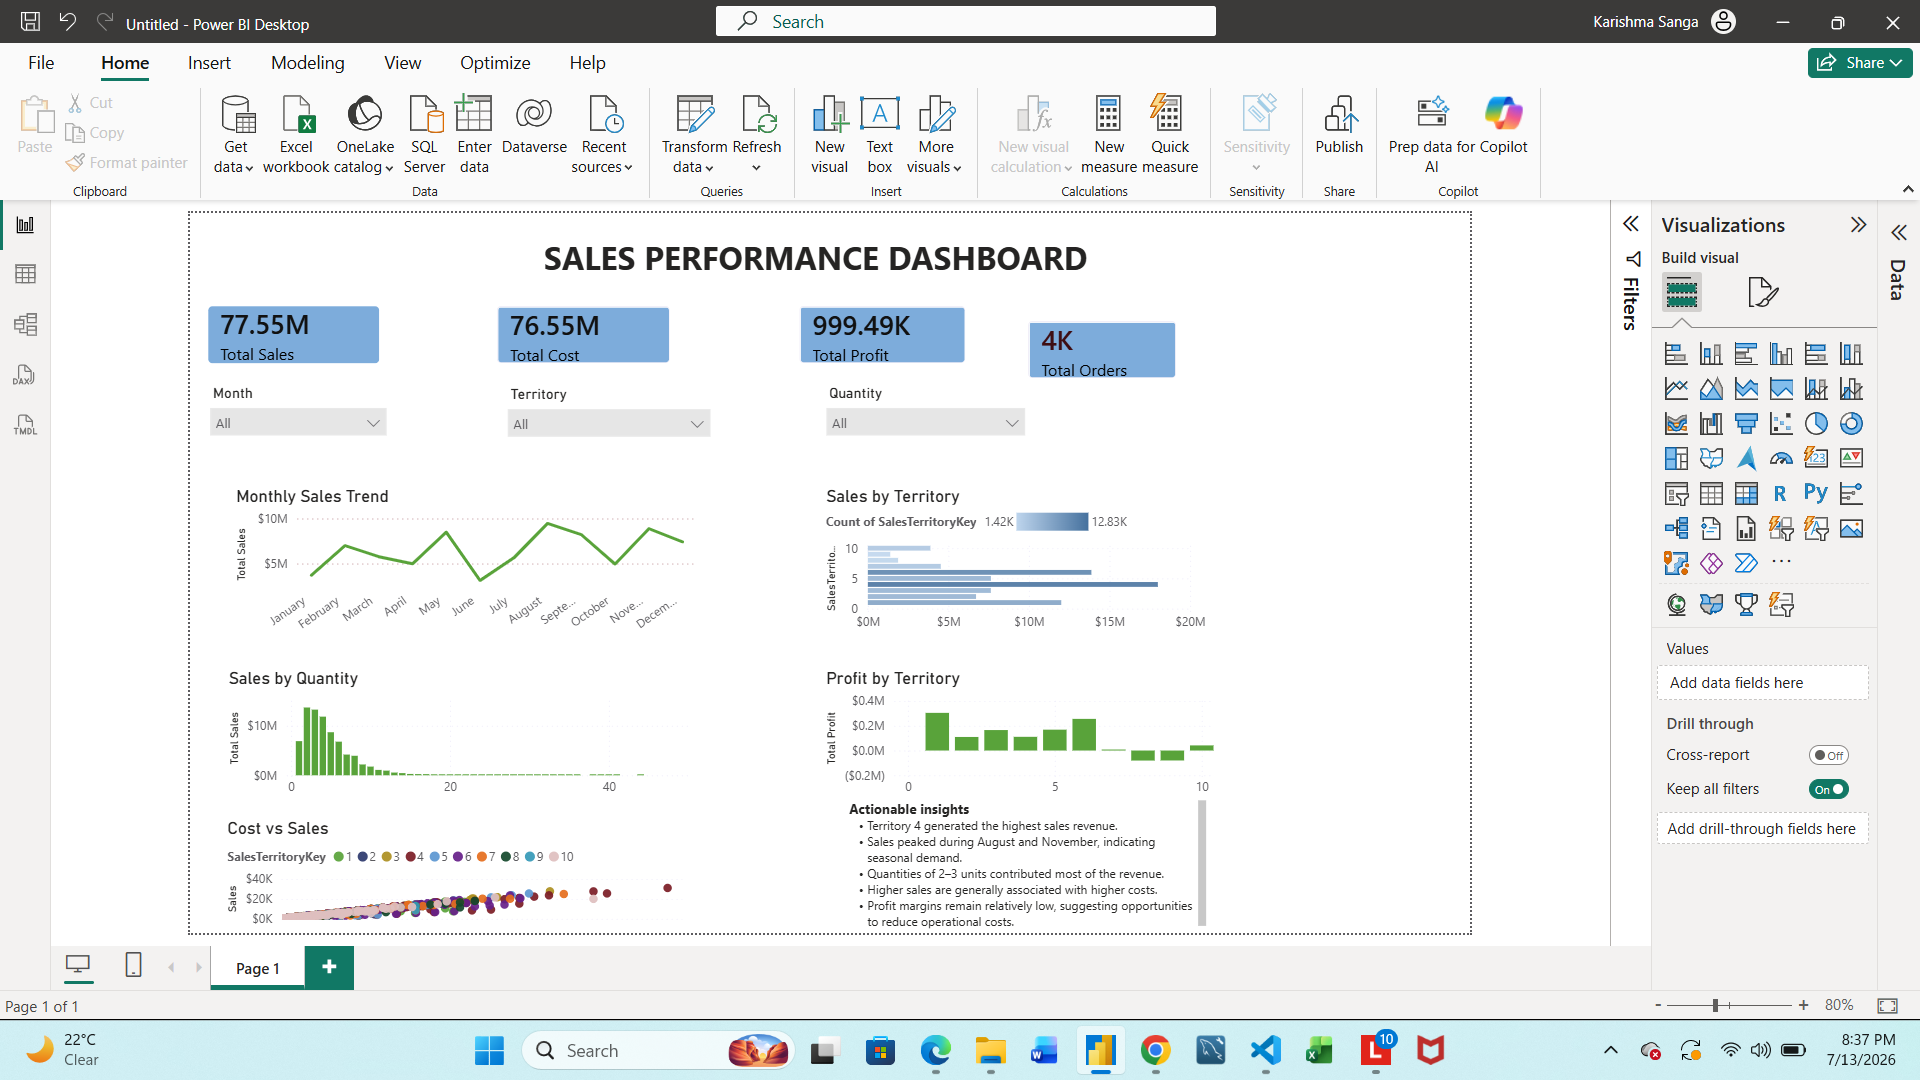

This screenshot's page, from the dashboard's own definition file:
{"tool":"powerbi","page":{"name":"Page 1","canvas":[1280,720],"ordinal":0},"visuals":[{"type":"cardVisual","fields":{"Data":["data_analysis.Total Sales"]},"box":[1.2,76.2,205,91.2],"z":0},{"type":"cardVisual","fields":{"Data":["data_analysis.Total Cost"]},"box":[303.8,76.2,207.5,91.2],"z":1},{"type":"cardVisual","fields":{"Data":["data_analysis.Total Profit"]},"box":[621.2,75,200,91.2],"z":2},{"type":"cardVisual","fields":{"Data":["data_analysis.Total Orders"]},"box":[938.8,76.2,182.5,91.2],"z":3},{"type":"lineChart","title":"Monthly Sales Trend","fields":{"Category":["data_analysis.Month"],"Y":["data_analysis.Total Sales"]},"box":[37.5,255,470,155],"z":4},{"type":"clusteredBarChart","title":"Sales by Territory","fields":{"Category":["data_analysis.SalesTerritoryKey"],"Y":["Sum(data_analysis.Sales)"]},"box":[626.2,255,390,155],"z":5},{"type":"clusteredColumnChart","title":"Sales by Quantity","fields":{"Category":["data_analysis.Quantity"],"Y":["data_analysis.Total Sales"]},"box":[30,418.8,477.5,165],"z":6},{"type":"slicer","fields":{"Values":["data_analysis.Month"]},"box":[10,166.2,196.2,71.2],"z":7},{"type":"slicer","fields":{"Values":["data_analysis.Territory"]},"box":[365,167.5,222.5,70],"z":8},{"type":"slicer","fields":{"Values":["data_analysis.Quantity"]},"box":[745,167.5,218.8,71.2],"z":9},{"type":"clusteredColumnChart","title":"Profit by Territory","fields":{"Category":["data_analysis.SalesTerritoryKey"],"Y":["data_analysis.Total Profit"]},"box":[631.2,418.8,398.8,165],"z":10},{"type":"scatterChart","title":"Sales vs Cost Relationship","fields":{"X":["data_analysis.Cost"],"Y":["data_analysis.Sales"],"Series":["data_analysis.SalesTerritoryKey"]},"box":[30,583.8,465,136.2],"z":11},{"type":"textbox","box":[348.8,17.5,563.8,73.8],"z":12},{"type":"textbox","box":[626.2,592.5,433.8,127.5],"z":13}]}

Visuals, with their boxes on the page's 1280x720 design canvas (x1, y1, x2, y2). These are canvas units, not pixel positions in the 1920x1080 screenshot, which may show the page scaled, cropped or inside an application window:
cardVisual - data_analysis.Total Sales: [1,76,206,167]
cardVisual - data_analysis.Total Cost: [304,76,511,167]
cardVisual - data_analysis.Total Profit: [621,75,821,166]
cardVisual - data_analysis.Total Orders: [939,76,1121,167]
"Monthly Sales Trend" lineChart: [38,255,508,410]
"Sales by Territory" clusteredBarChart: [626,255,1016,410]
"Sales by Quantity" clusteredColumnChart: [30,419,508,584]
slicer - data_analysis.Month: [10,166,206,237]
slicer - data_analysis.Territory: [365,168,588,238]
slicer - data_analysis.Quantity: [745,168,964,239]
"Profit by Territory" clusteredColumnChart: [631,419,1030,584]
"Sales vs Cost Relationship" scatterChart: [30,584,495,720]
textbox: [349,18,913,91]
textbox: [626,592,1060,720]
